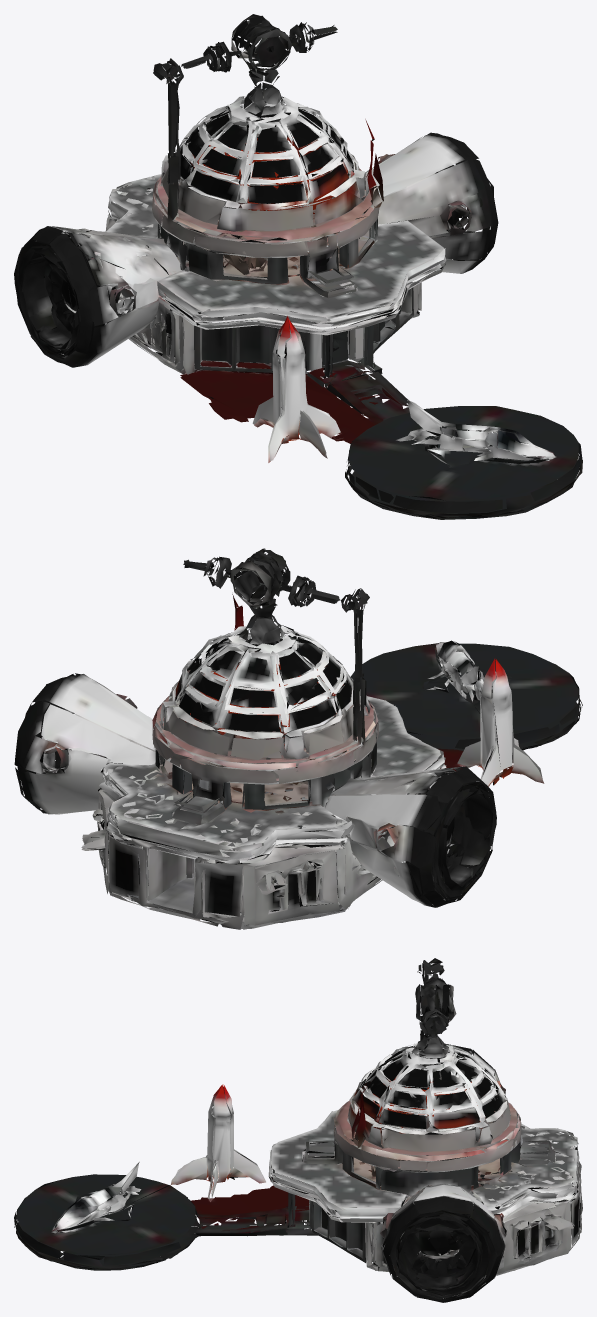
File: martian-base.hq.glb
3 renders of one model, top to bottom at view 1: azimuth 30°, elevation 25°; view 2: azimuth 150°, elevation 25°; view 3: azimuth 270°, elevation 25°, orthographic. The views are drawn at different scales.
Visible parts, largest first — view 1: low; view 2: low; view 3: low.
Boxes of the visible parts, x1,y1,x2,y2 form: low: [14, 14, 582, 519]; low: [14, 548, 582, 929]; low: [14, 958, 582, 1302].
Bounding box in the file's own units: 0.7091 × 0.4855 × 1.
1 material, 1 textured.
